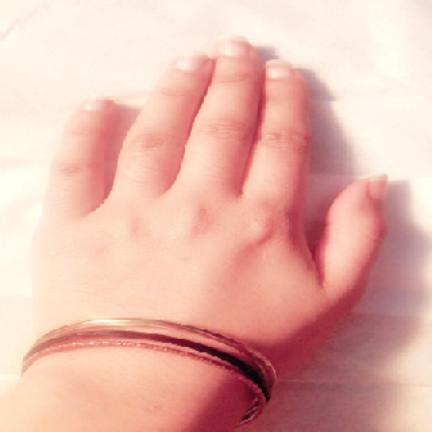Nail: (217, 36, 250, 56), (175, 54, 208, 72), (266, 60, 292, 79), (369, 175, 387, 200), (83, 95, 109, 111)
